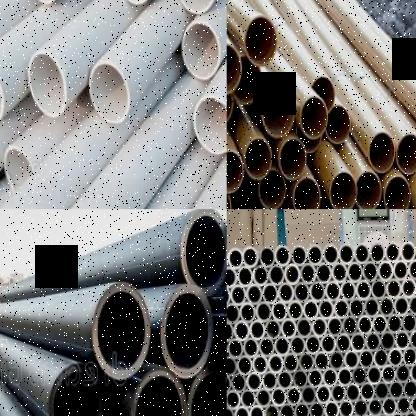pipe: (93, 281, 151, 380), (160, 284, 214, 377), (179, 209, 227, 295), (48, 363, 104, 416), (130, 367, 186, 416), (28, 51, 67, 117), (89, 62, 129, 124), (181, 20, 221, 80), (192, 94, 226, 154), (187, 365, 227, 416), (245, 15, 278, 66), (262, 87, 295, 138), (233, 56, 262, 104), (4, 146, 35, 190), (301, 96, 329, 140), (278, 136, 306, 180), (244, 137, 272, 180), (258, 168, 286, 209), (355, 170, 382, 209), (369, 132, 395, 172), (329, 172, 357, 209), (325, 105, 351, 144), (384, 175, 411, 209), (311, 75, 335, 112), (293, 177, 320, 209), (396, 133, 416, 175), (227, 43, 242, 93), (227, 150, 243, 192), (176, 0, 217, 13), (284, 262, 301, 286), (293, 280, 310, 303), (369, 241, 386, 264), (291, 244, 308, 267), (259, 245, 276, 268), (377, 259, 394, 282), (362, 260, 379, 283), (370, 278, 387, 300), (271, 300, 288, 322), (311, 316, 328, 338), (296, 316, 313, 338), (289, 334, 306, 356), (274, 335, 291, 357), (307, 244, 324, 266), (274, 245, 291, 267), (386, 277, 402, 300), (278, 280, 294, 303), (262, 282, 278, 305), (240, 301, 256, 324), (228, 247, 244, 270), (316, 261, 332, 284), (300, 262, 316, 285), (269, 263, 285, 286), (393, 258, 408, 282), (348, 260, 363, 284), (238, 264, 253, 288), (298, 351, 315, 372), (400, 276, 416, 298), (325, 280, 341, 302), (310, 280, 326, 302), (247, 283, 263, 305), (231, 284, 247, 306), (379, 296, 395, 318), (364, 296, 380, 318), (349, 296, 365, 318), (319, 298, 335, 320), (303, 298, 319, 320), (287, 300, 303, 322), (256, 300, 272, 322), (372, 313, 388, 335), (342, 314, 358, 336), (281, 317, 297, 339), (265, 318, 281, 340), (234, 320, 250, 342), (394, 329, 410, 351), (365, 330, 381, 352), (305, 334, 321, 356), (259, 336, 275, 358), (314, 350, 330, 372), (283, 352, 299, 374), (268, 352, 284, 374), (237, 354, 253, 376), (322, 366, 338, 388), (292, 368, 308, 390), (240, 388, 256, 410), (400, 240, 416, 262), (385, 241, 401, 263), (243, 246, 259, 268), (253, 264, 269, 286), (332, 261, 347, 284), (307, 368, 324, 388), (327, 316, 343, 337), (380, 330, 396, 351), (350, 332, 366, 353), (253, 354, 269, 375), (366, 364, 382, 385), (337, 366, 353, 387), (277, 369, 293, 390), (374, 380, 390, 401), (301, 385, 317, 406), (286, 386, 302, 407), (354, 243, 370, 264), (356, 278, 371, 300), (341, 279, 356, 301), (394, 294, 409, 316), (334, 297, 349, 319), (387, 312, 402, 334), (358, 314, 373, 336), (250, 318, 265, 340), (321, 332, 336, 354), (244, 336, 259, 358), (228, 338, 243, 360), (360, 380, 375, 402), (324, 243, 339, 265), (329, 350, 345, 370), (381, 364, 397, 384), (352, 366, 368, 386), (246, 372, 262, 392), (388, 380, 404, 400), (396, 396, 412, 416), (401, 311, 416, 332), (336, 332, 351, 353), (344, 349, 359, 370), (262, 371, 277, 392), (232, 373, 247, 394), (271, 386, 286, 407), (339, 243, 354, 264), (401, 345, 416, 365), (388, 347, 403, 367), (374, 348, 389, 368), (359, 348, 374, 368), (396, 363, 411, 383), (345, 383, 360, 403), (331, 383, 346, 403), (316, 384, 331, 404), (256, 388, 271, 408), (382, 396, 397, 416), (227, 80, 233, 128), (352, 398, 368, 416), (227, 302, 240, 324), (368, 397, 383, 416), (227, 390, 241, 410), (339, 398, 354, 416), (226, 265, 238, 287), (403, 378, 416, 398), (324, 399, 339, 416), (226, 356, 238, 376), (309, 400, 324, 416), (294, 401, 310, 416), (279, 401, 294, 416), (407, 258, 416, 280), (264, 404, 280, 416), (250, 404, 265, 416), (408, 294, 416, 315), (234, 406, 250, 416), (409, 329, 416, 350), (409, 362, 416, 382), (227, 320, 233, 341), (410, 394, 416, 414), (227, 373, 231, 394), (404, 410, 416, 416), (227, 406, 234, 416), (389, 411, 403, 416), (227, 284, 230, 306), (375, 414, 390, 416), (347, 414, 362, 416), (361, 414, 375, 416)
